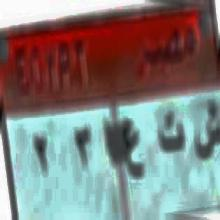2: (33, 126, 53, 188)
3: (74, 117, 97, 176)
ain: (123, 116, 145, 189)
sheen: (194, 103, 220, 157)
taa: (156, 110, 189, 167)
